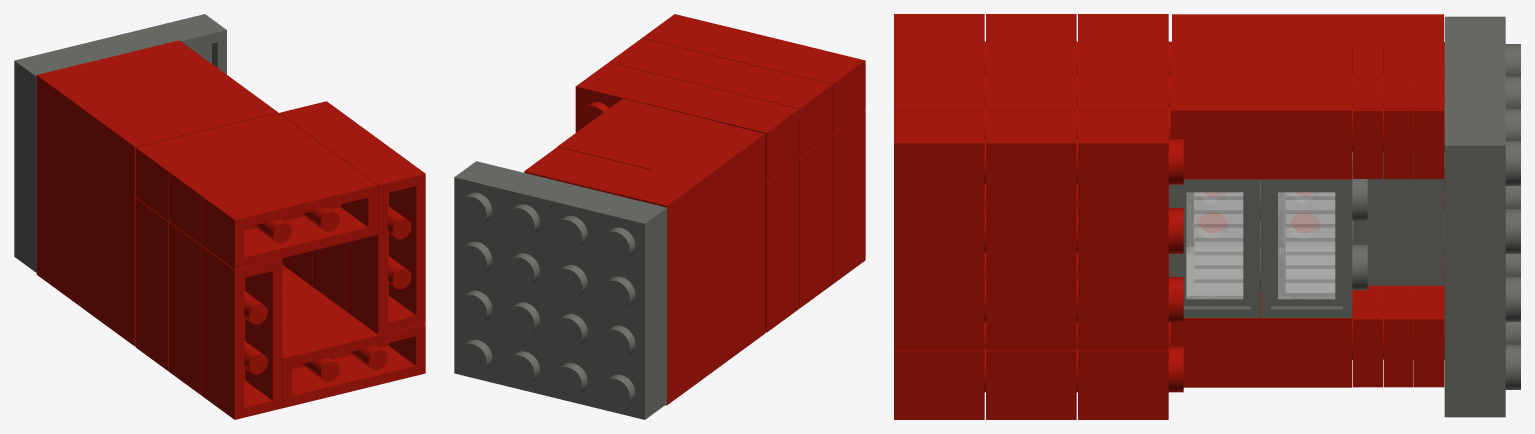
The model's file is cajero.dae.
3 renders of one model, left to right at view 1: azimuth 30°, elevation 25°; view 2: azimuth 150°, elevation 25°; view 3: azimuth 270°, elevation 25°, orthographic. The views are drawn at different scales.
Visible parts, largest first — view 1: Inner-Node-UntitledModel_dot_io-12, Inner-Node-UntitledModel_dot_io-2, Inner-Node-UntitledModel_dot_io-1, Inner-Node-UntitledModel_dot_io-3, Inner-Node-UntitledModel_dot_io-0, Inner-Node-UntitledModel_dot_io-6, Inner-Node-UntitledModel_dot_io-10, Inner-Node-UntitledModel_dot_io-14, Inner-Node-UntitledModel_dot_io-15, Inner-Node-UntitledModel_dot_io-9, Inner-Node-UntitledModel_dot_io-5, Inner-Node-UntitledModel_dot_io-22 (+7 smaller); view 2: Inner-Node-UntitledModel_dot_io-22, Inner-Node-UntitledModel_dot_io-12, Inner-Node-UntitledModel_dot_io-10, Inner-Node-UntitledModel_dot_io-2, Inner-Node-UntitledModel_dot_io-6, Inner-Node-UntitledModel_dot_io-14, Inner-Node-UntitledModel_dot_io-9, Inner-Node-UntitledModel_dot_io-1, Inner-Node-UntitledModel_dot_io-5, Inner-Node-UntitledModel_dot_io-15, Inner-Node-UntitledModel_dot_io-11, Inner-Node-UntitledModel_dot_io-3 (+4 smaller); view 3: Inner-Node-UntitledModel_dot_io-14, Inner-Node-UntitledModel_dot_io-11, Inner-Node-UntitledModel_dot_io-3, Inner-Node-UntitledModel_dot_io-7, Inner-Node-UntitledModel_dot_io-22, Inner-Node-UntitledModel_dot_io-23, Inner-Node-UntitledModel_dot_io-15, Inner-Node-UntitledModel_dot_io-13, Inner-Node-UntitledModel_dot_io-25, Inner-Node-UntitledModel_dot_io-12, Inner-Node-UntitledModel_dot_io-10, Inner-Node-UntitledModel_dot_io-2 (+11 smaller).
Boxes of the visible parts, bbox=[...] form: Inner-Node-UntitledModel_dot_io-12: bbox=[36, 63, 182, 346]; Inner-Node-UntitledModel_dot_io-2: bbox=[202, 161, 377, 269]; Inner-Node-UntitledModel_dot_io-1: bbox=[202, 246, 282, 419]; Inner-Node-UntitledModel_dot_io-3: bbox=[345, 150, 425, 334]; Inner-Node-UntitledModel_dot_io-0: bbox=[282, 311, 425, 408]; Inner-Node-UntitledModel_dot_io-6: bbox=[169, 137, 344, 245]; Inner-Node-UntitledModel_dot_io-10: bbox=[136, 113, 311, 221]; Inner-Node-UntitledModel_dot_io-14: bbox=[117, 64, 277, 136]; Inner-Node-UntitledModel_dot_io-15: bbox=[25, 22, 226, 272]; Inner-Node-UntitledModel_dot_io-9: bbox=[135, 197, 168, 371]; Inner-Node-UntitledModel_dot_io-5: bbox=[169, 222, 202, 395]; Inner-Node-UntitledModel_dot_io-22: bbox=[14, 14, 215, 264]; Inner-Node-UntitledModel_dot_io-22: bbox=[454, 169, 655, 419]; Inner-Node-UntitledModel_dot_io-12: bbox=[619, 122, 765, 405]; Inner-Node-UntitledModel_dot_io-10: bbox=[623, 74, 799, 182]; Inner-Node-UntitledModel_dot_io-2: bbox=[690, 25, 865, 133]; Inner-Node-UntitledModel_dot_io-6: bbox=[657, 50, 832, 158]; Inner-Node-UntitledModel_dot_io-14: bbox=[557, 98, 717, 169]; Inner-Node-UntitledModel_dot_io-9: bbox=[765, 159, 799, 332]; Inner-Node-UntitledModel_dot_io-1: bbox=[832, 110, 865, 283]; Inner-Node-UntitledModel_dot_io-5: bbox=[799, 135, 832, 308]; Inner-Node-UntitledModel_dot_io-15: bbox=[465, 161, 666, 411]; Inner-Node-UntitledModel_dot_io-11: bbox=[575, 62, 655, 132]; Inner-Node-UntitledModel_dot_io-3: bbox=[642, 14, 721, 49]; Inner-Node-UntitledModel_dot_io-14: bbox=[1170, 46, 1352, 179]; Inner-Node-UntitledModel_dot_io-11: bbox=[1078, 111, 1183, 350]; Inner-Node-UntitledModel_dot_io-3: bbox=[894, 111, 985, 350]; Inner-Node-UntitledModel_dot_io-7: bbox=[986, 111, 1077, 350]; Inner-Node-UntitledModel_dot_io-22: bbox=[1475, 16, 1520, 417]; Inner-Node-UntitledModel_dot_io-23: bbox=[1261, 151, 1367, 317]; Inner-Node-UntitledModel_dot_io-15: bbox=[1444, 16, 1474, 417]; Inner-Node-UntitledModel_dot_io-13: bbox=[1170, 290, 1352, 387]; Inner-Node-UntitledModel_dot_io-25: bbox=[1169, 179, 1260, 317]; Inner-Node-UntitledModel_dot_io-12: bbox=[1172, 14, 1444, 281]; Inner-Node-UntitledModel_dot_io-10: bbox=[1078, 14, 1171, 138]; Inner-Node-UntitledModel_dot_io-2: bbox=[894, 14, 985, 138].
Bounding box in the file's own units: 79.82 × 79.9 × 164.
